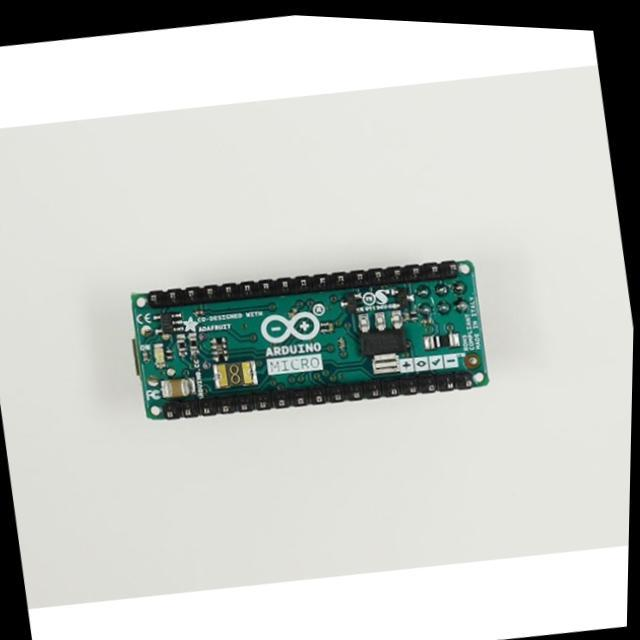Arduino-Micro: (135, 261, 489, 420)
